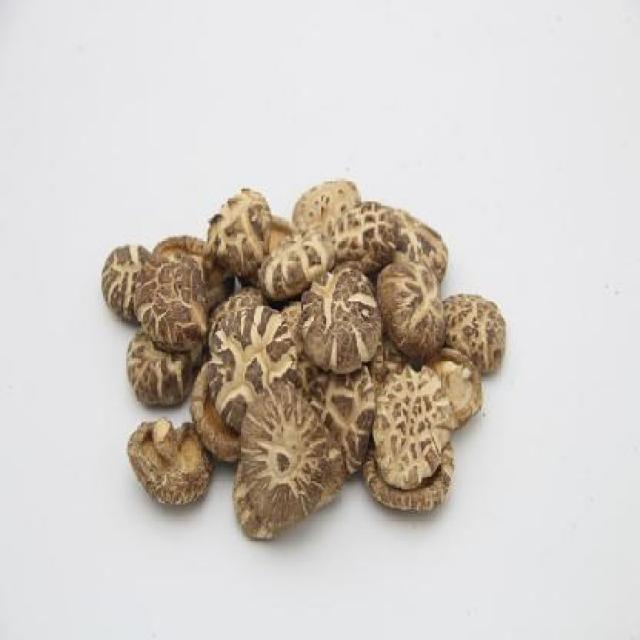Mushroom: (122, 202, 236, 366), (230, 392, 341, 531), (360, 356, 468, 493), (374, 233, 454, 358), (245, 224, 348, 307)
